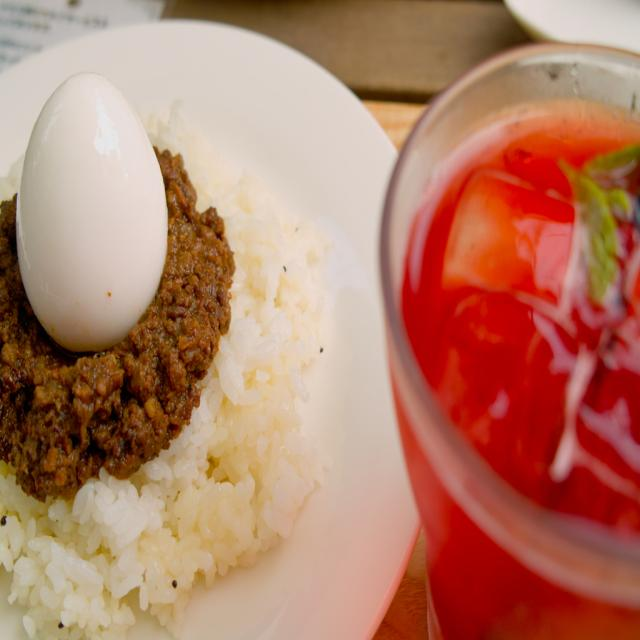Egg: (16, 77, 168, 354)
